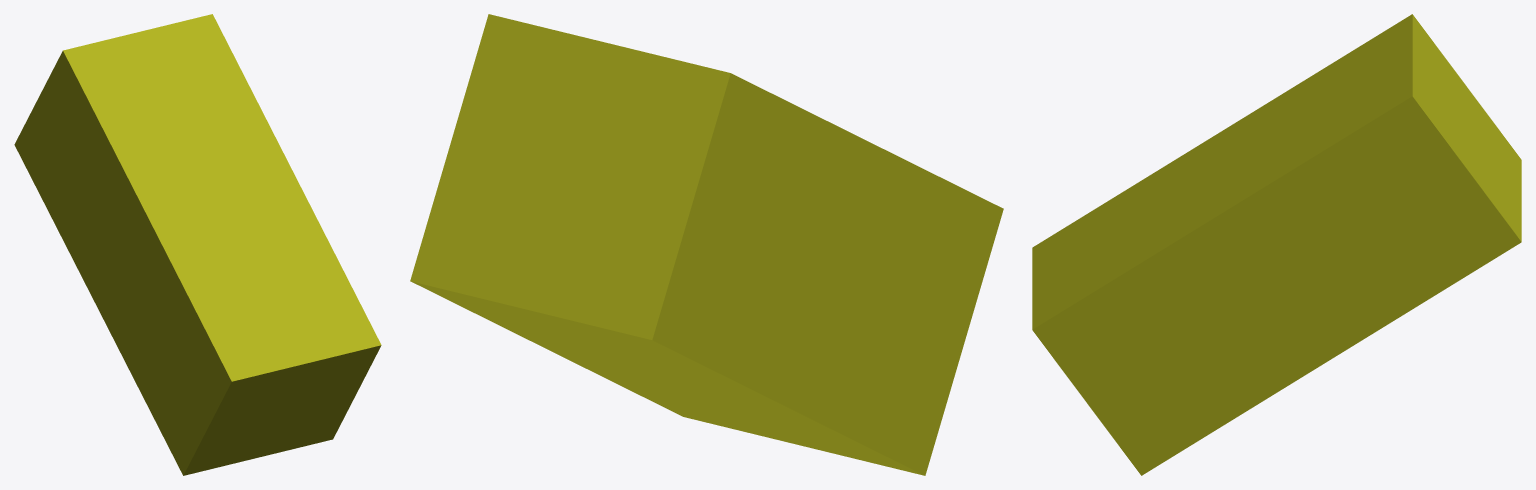
The model's file is arm.glb.
3 renders of one model, left to right at view 1: azimuth 30°, elevation 25°; view 2: azimuth 150°, elevation 25°; view 3: azimuth 270°, elevation 25°, orthographic. The views are drawn at different scales.
Visible parts, largest first — view 1: Cube; view 2: Cube; view 3: Cube.
Part boxes in pixels (x1,y1,x2,y2): Cube: (14, 14, 381, 475); Cube: (410, 14, 1003, 475); Cube: (1032, 14, 1521, 475).
Size of the model in its own units: 0.5 by 1.08 by 1.26.
